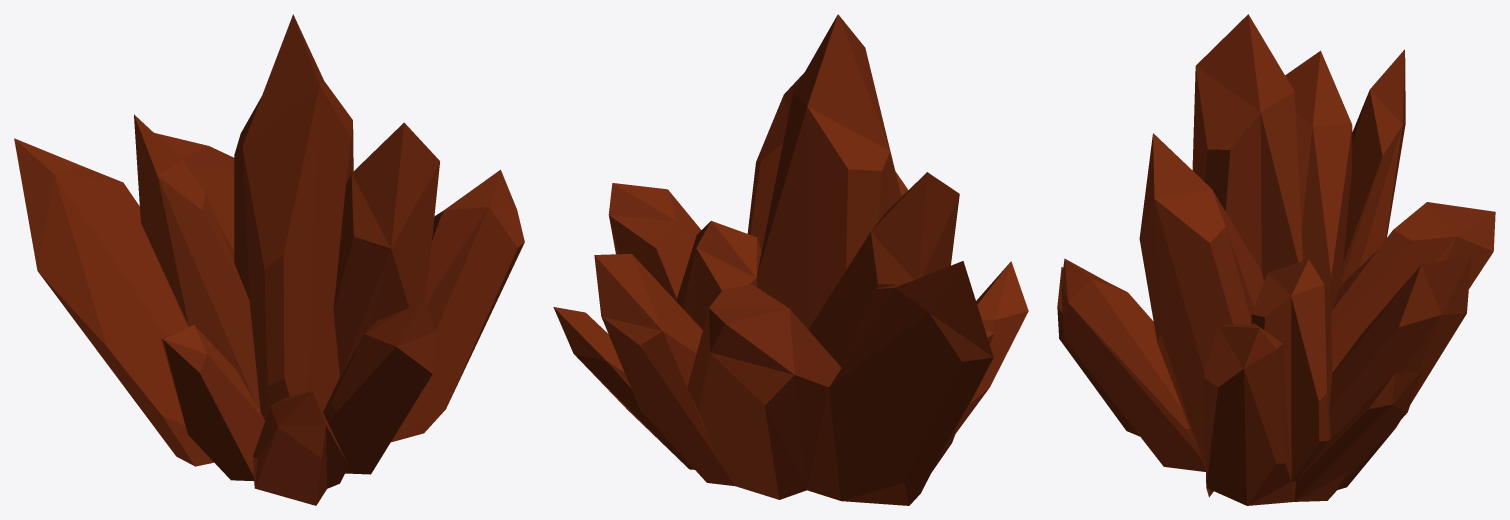
File: lib_ambermal.fbx
3 renders of one model, left to right at view 1: azimuth 30°, elevation 25°; view 2: azimuth 150°, elevation 25°; view 3: azimuth 270°, elevation 25°, orthographic. The views are drawn at different scales.
Parts seen in each view (by area): view 1: Cube.003; view 2: Cube.003; view 3: Cube.003.
Boxes of the visible parts, bbox=[...] form: Cube.003: bbox=[14, 14, 524, 505]; Cube.003: bbox=[553, 14, 1028, 505]; Cube.003: bbox=[1057, 14, 1495, 505].
Bounding box in the file's own units: 356 × 351 × 320.
